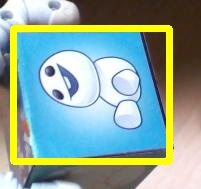Blue1: (13, 28, 169, 161)
